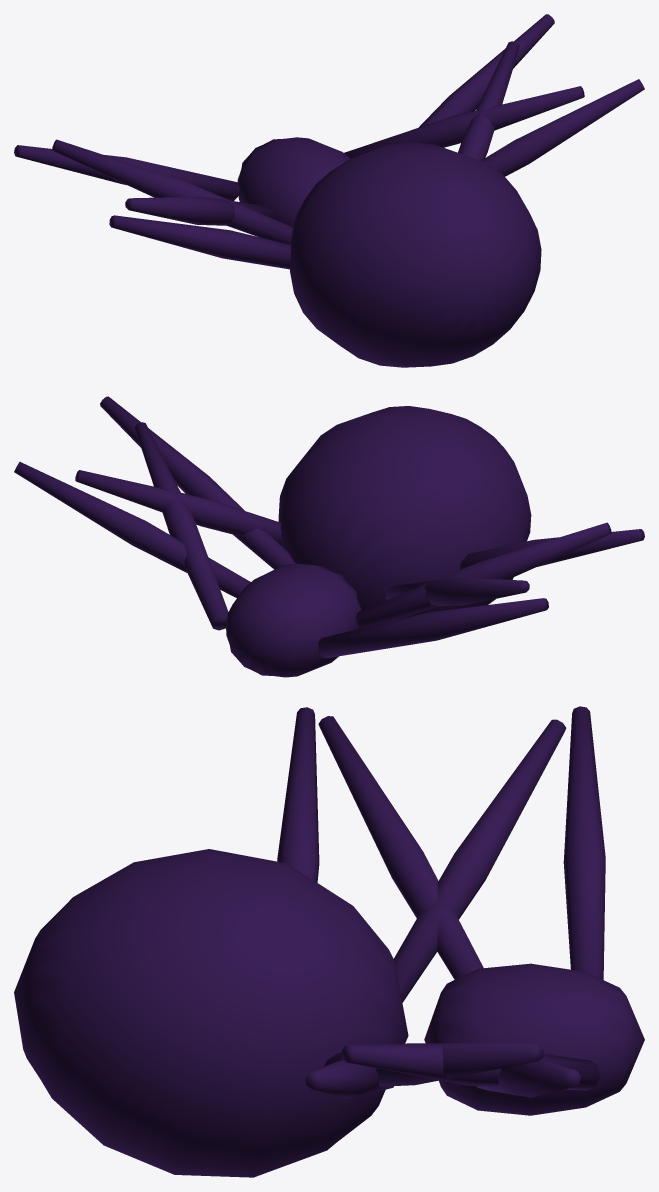
File: spider.glb
The picture shows the model from 3 angles, top to bottom: view 1: azimuth 30°, elevation 25°; view 2: azimuth 150°, elevation 25°; view 3: azimuth 270°, elevation 25°; orthographic projection. The views are drawn at different scales.
Visible parts, largest first — view 1: Abdomen, Head, LegMesh_-1_1, LegMesh_-1_0, LegMesh_1_3, LegMesh_1_1, LegMesh_-1_2, LegMesh_-1_3, LegMesh_1_2, LegMesh_1_0; view 2: Abdomen, Head, LegMesh_-1_3, LegMesh_1_2, LegMesh_-1_2, LegMesh_1_3, LegMesh_1_0, LegMesh_1_1, LegMesh_-1_1, LegMesh_-1_0; view 3: Abdomen, Head, LegMesh_-1_1, LegMesh_-1_3, LegMesh_-1_2, LegMesh_-1_0, LegMesh_1_3, LegMesh_1_0, LegMesh_1_2, LegMesh_1_1.
Boxes of the visible parts, bbox=[...] form: Abdomen: bbox=[290, 142, 541, 367]; Head: bbox=[237, 137, 350, 227]; LegMesh_-1_1: bbox=[52, 139, 292, 244]; LegMesh_-1_0: bbox=[109, 215, 291, 269]; LegMesh_1_3: bbox=[344, 86, 584, 158]; LegMesh_1_1: bbox=[481, 79, 644, 176]; LegMesh_-1_2: bbox=[125, 196, 276, 225]; LegMesh_-1_3: bbox=[14, 145, 239, 200]; LegMesh_1_2: bbox=[419, 14, 554, 127]; LegMesh_1_0: bbox=[458, 41, 519, 160]; Abdomen: bbox=[278, 406, 531, 619]; Head: bbox=[226, 563, 361, 677]; LegMesh_-1_3: bbox=[318, 598, 548, 658]; LegMesh_1_2: bbox=[14, 462, 250, 597]; LegMesh_-1_2: bbox=[355, 522, 611, 628]; LegMesh_1_3: bbox=[135, 422, 228, 630]; LegMesh_1_0: bbox=[75, 470, 281, 544]; LegMesh_1_1: bbox=[100, 396, 295, 569]; LegMesh_-1_1: bbox=[386, 577, 529, 605]; LegMesh_-1_0: bbox=[459, 529, 644, 569]; Abdomen: bbox=[14, 849, 408, 1177]; Head: bbox=[424, 963, 644, 1115]; LegMesh_-1_1: bbox=[394, 719, 566, 1002]; LegMesh_-1_3: bbox=[563, 706, 605, 979]; LegMesh_-1_2: bbox=[318, 716, 483, 979]; LegMesh_-1_0: bbox=[277, 707, 319, 882]; LegMesh_1_3: bbox=[341, 1044, 599, 1090]; LegMesh_1_0: bbox=[324, 1043, 543, 1086]; LegMesh_1_2: bbox=[476, 1060, 580, 1097]; LegMesh_1_1: bbox=[305, 1059, 393, 1098].
Size of the model in its own units: 1.48 by 0.53 by 1.04.
Materials: 2 (2 with a texture image).
